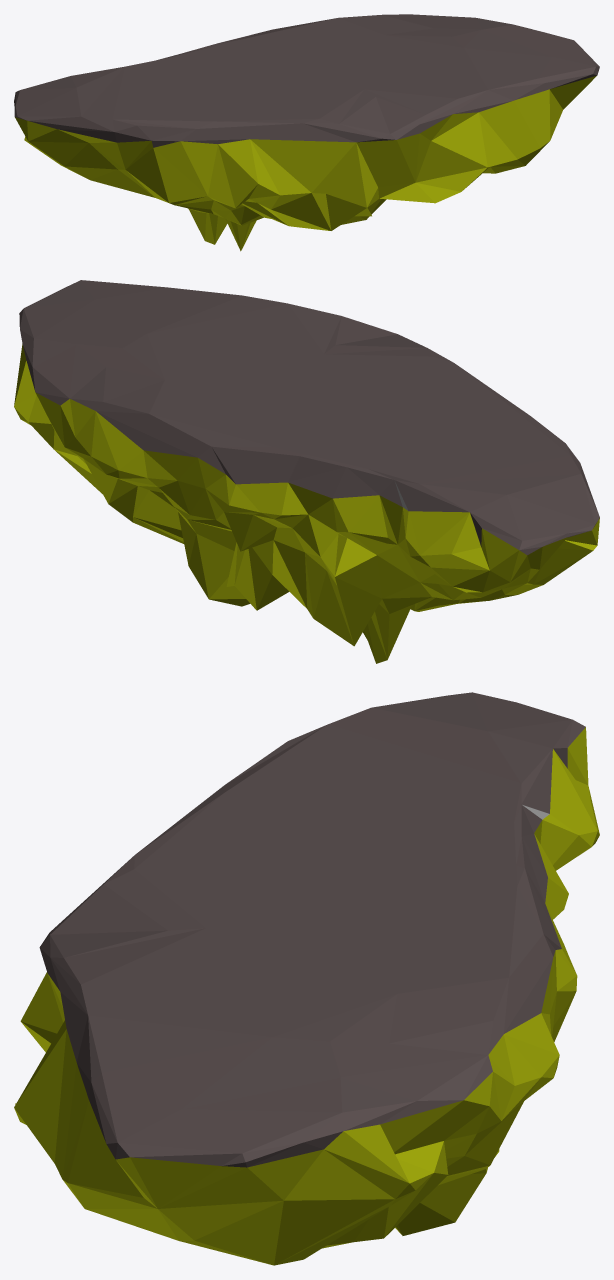
The model's file is maya_level_02_texture.fbx.
3 views of the same model, one above another, from view 1: azimuth 30°, elevation 25°; view 2: azimuth 150°, elevation 25°; view 3: azimuth 270°, elevation 25° (orthographic). The views are drawn at different scales.
Parts seen in each view (by area): view 1: maya_level2; view 2: maya_level2; view 3: maya_level2.
Boxes of the visible parts, x1,y1,x2,y2 form: maya_level2: (14,14,599,251); maya_level2: (14,280,599,663); maya_level2: (14,692,599,1265).
Bounding box in the file's own units: 5356 × 1788 × 2871.
